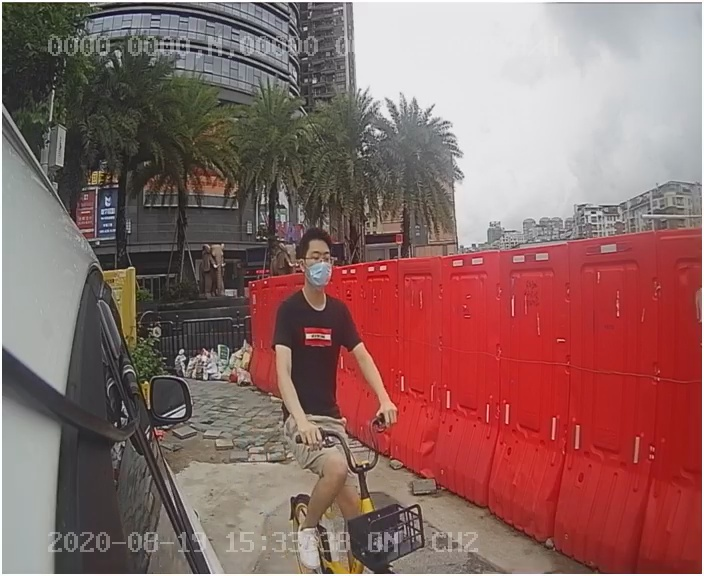person: (258, 232, 406, 468)
